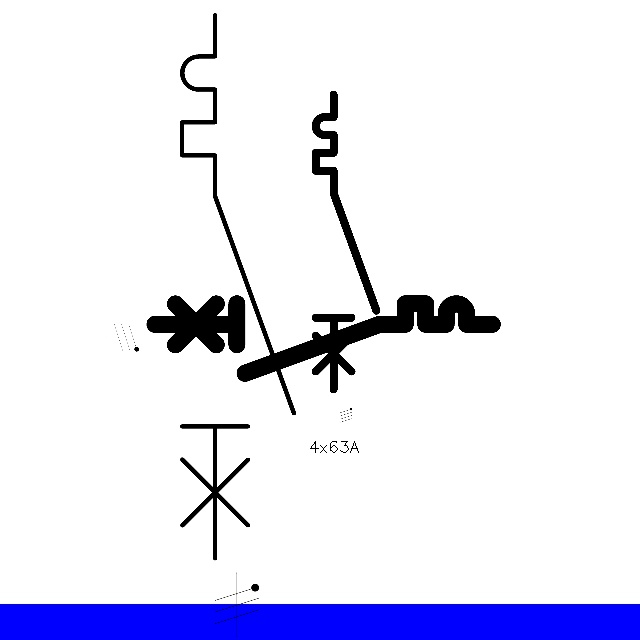interruptor_termomagnetico: (168, 1, 308, 572), (146, 295, 501, 382), (308, 87, 384, 397)
